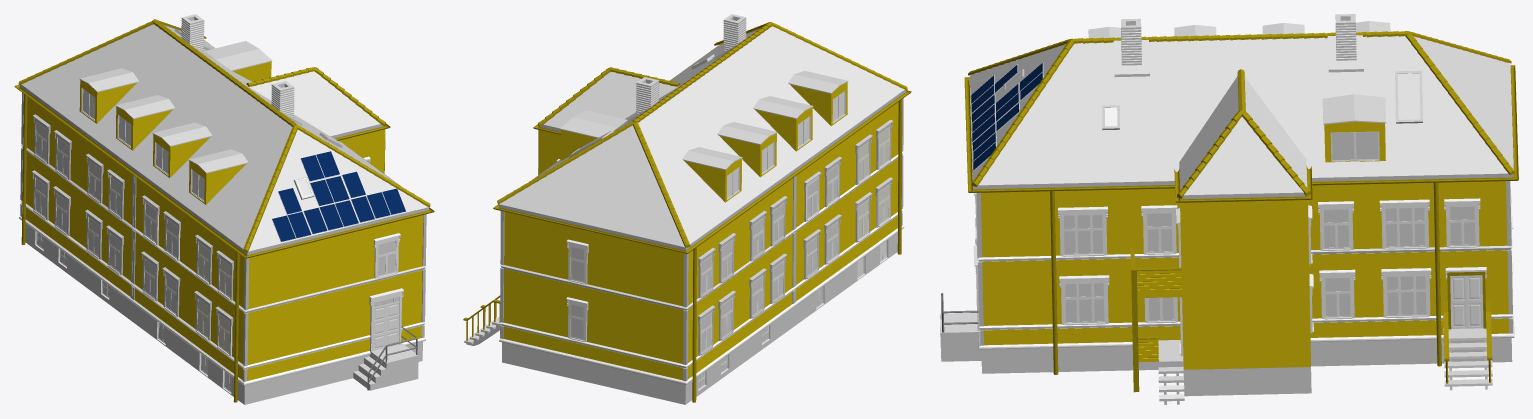
The model's file is house_panel_2_0001.glb.
The picture shows the model from 3 angles, left to right: view 1: azimuth 30°, elevation 25°; view 2: azimuth 150°, elevation 25°; view 3: azimuth 270°, elevation 25°; orthographic projection. The views are drawn at different scales.
Parts seen in each view (by area): view 1: SketchUp.874, SketchUp.871, SketchUp.865, SketchUp.002, SketchUp.511, SketchUp.484, SketchUp.001, SketchUp.872, SketchUp.015, SketchUp.057, SketchUp.052, SketchUp.734 (+33 smaller); view 2: SketchUp.874, SketchUp.871, SketchUp.002, SketchUp.865, SketchUp.511, SketchUp.484, SketchUp.001, SketchUp.872, SketchUp.057, SketchUp.052, SketchUp.734, SketchUp.522 (+14 smaller); view 3: SketchUp.871, SketchUp.874, SketchUp.868, SketchUp.865, SketchUp.002, SketchUp, SketchUp.511, SketchUp.872, SketchUp.734, SketchUp.057, SketchUp.484, SketchUp.019 (+30 smaller).
Part boxes in pixels (x1,y1,x2,y2): SketchUp.874: (25, 97, 423, 380); SketchUp.871: (21, 24, 428, 251); SketchUp.865: (249, 71, 380, 136); SketchUp.002: (25, 224, 422, 404); SketchUp.511: (14, 40, 434, 258); SketchUp.484: (19, 216, 425, 385); SketchUp.001: (109, 286, 199, 370); SketchUp.872: (20, 84, 428, 255); SketchUp.015: (353, 351, 418, 390); SketchUp.057: (20, 200, 425, 369); SketchUp.052: (21, 144, 426, 313); SketchUp.734: (205, 41, 272, 71); SketchUp.874: (503, 102, 898, 380); SketchUp.871: (499, 26, 904, 247); SketchUp.002: (502, 232, 897, 404); SketchUp.865: (544, 72, 678, 128); SketchUp.511: (493, 48, 911, 253); SketchUp.484: (499, 225, 904, 384); SketchUp.001: (770, 262, 857, 343); SketchUp.872: (498, 89, 905, 250); SketchUp.057: (499, 209, 903, 368); SketchUp.052: (500, 153, 902, 310); SketchUp.734: (560, 110, 627, 138); SketchUp.522: (790, 82, 847, 126); SketchUp.871: (969, 36, 1513, 185); SketchUp.874: (981, 109, 1508, 345); SketchUp.868: (1180, 200, 1310, 369); SketchUp.865: (1179, 76, 1307, 195); SketchUp.002: (981, 338, 1512, 373); SketchUp: (1183, 366, 1311, 396); SketchUp.511: (964, 65, 1518, 192); SketchUp.872: (969, 77, 1513, 189); SketchUp.734: (1322, 94, 1386, 124); SketchUp.057: (975, 218, 1513, 330); SketchUp.484: (975, 240, 1514, 349); SketchUp.019: (1137, 270, 1181, 298).
Bounding box in the file's own units: 13.74 × 13.47 × 22.92.
